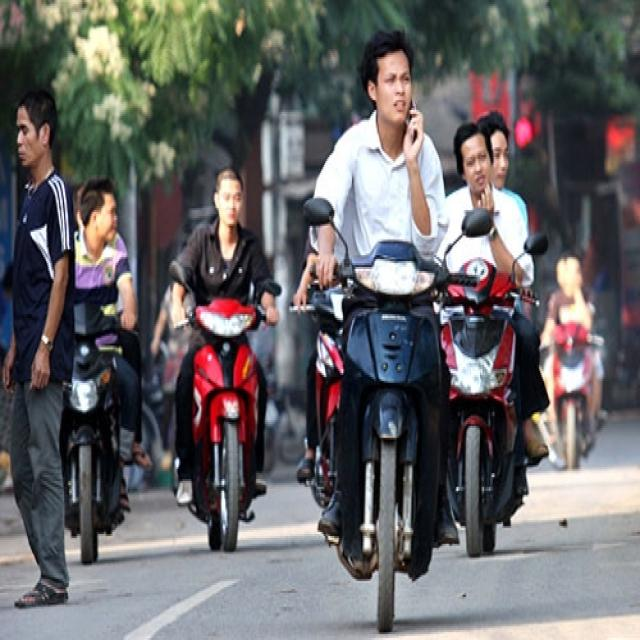no_helmet: (353, 20, 425, 135)
